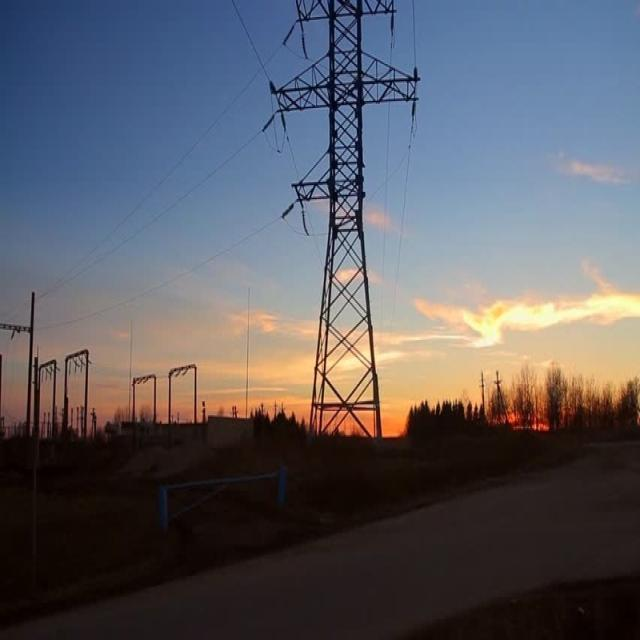non-critical vegetation: (263, 12, 427, 436)
